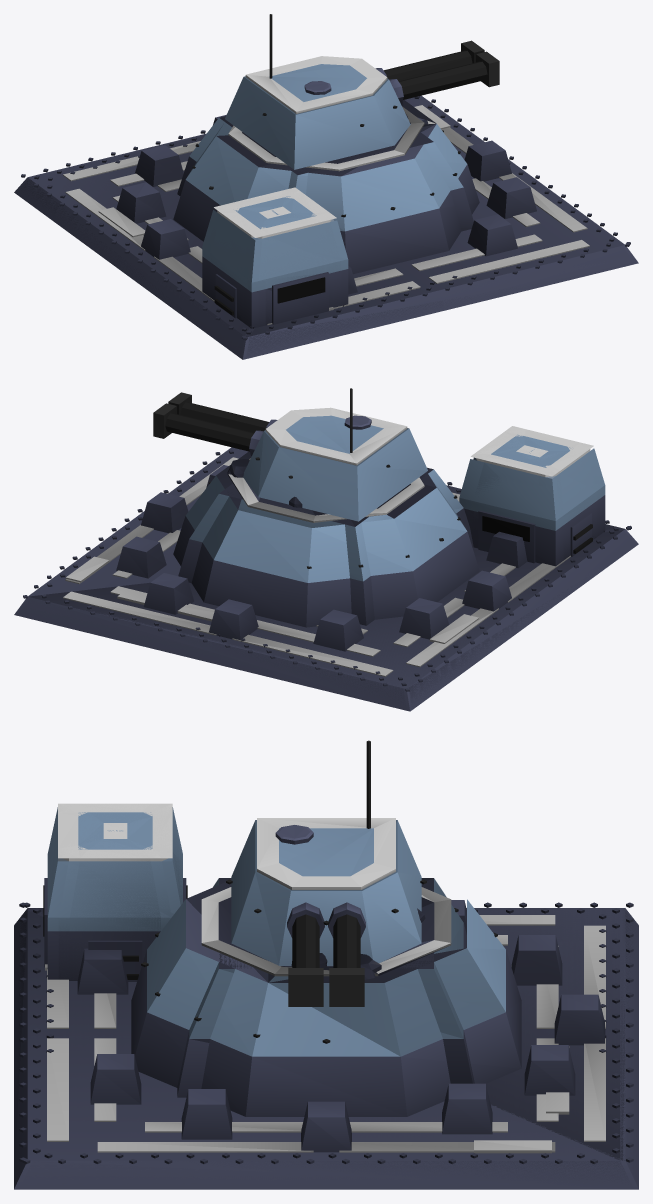
The model's file is veyran_advanced_defences_damaged.glb.
3 renders of one model, top to bottom at view 1: azimuth 30°, elevation 25°; view 2: azimuth 150°, elevation 25°; view 3: azimuth 270°, elevation 25°, orthographic. The views are drawn at different scales.
Visible parts, largest first — view 1: body (×3), turret, barrel; view 2: body (×3), turret, barrel; view 3: body (×3), turret, barrel.
Part boxes in pixels (<box>): body (×3): <box>14,95,638,359</box>; turret: <box>225,14,410,169</box>; barrel: <box>375,40,499,104</box>; body (×3): <box>14,426,638,711</box>; turret: <box>243,388,427,521</box>; barrel: <box>153,392,277,455</box>; body (×3): <box>14,803,638,1189</box>; turret: <box>226,740,426,965</box>; barrel: <box>287,902,365,1006</box>.
Bounding box in the file's own units: 7.4 × 3.78 × 7.4.
